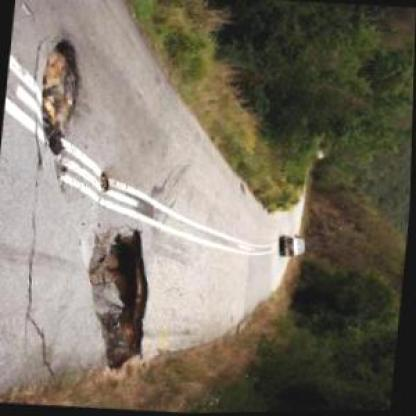pothole: (78, 223, 162, 376), (32, 33, 89, 158), (97, 169, 115, 197)
